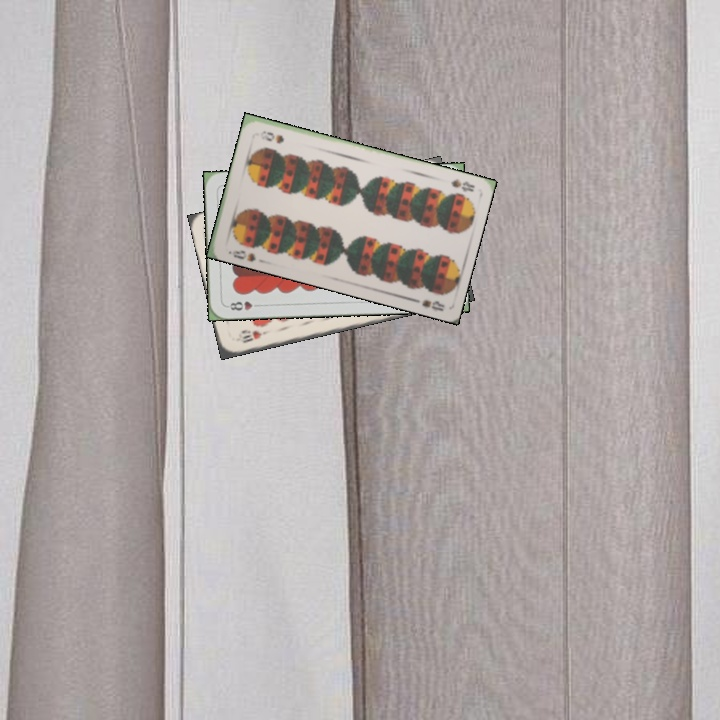H10: (239, 326, 272, 346)
H8: (223, 297, 264, 313)
S8: (224, 246, 258, 264), (447, 174, 477, 194)
